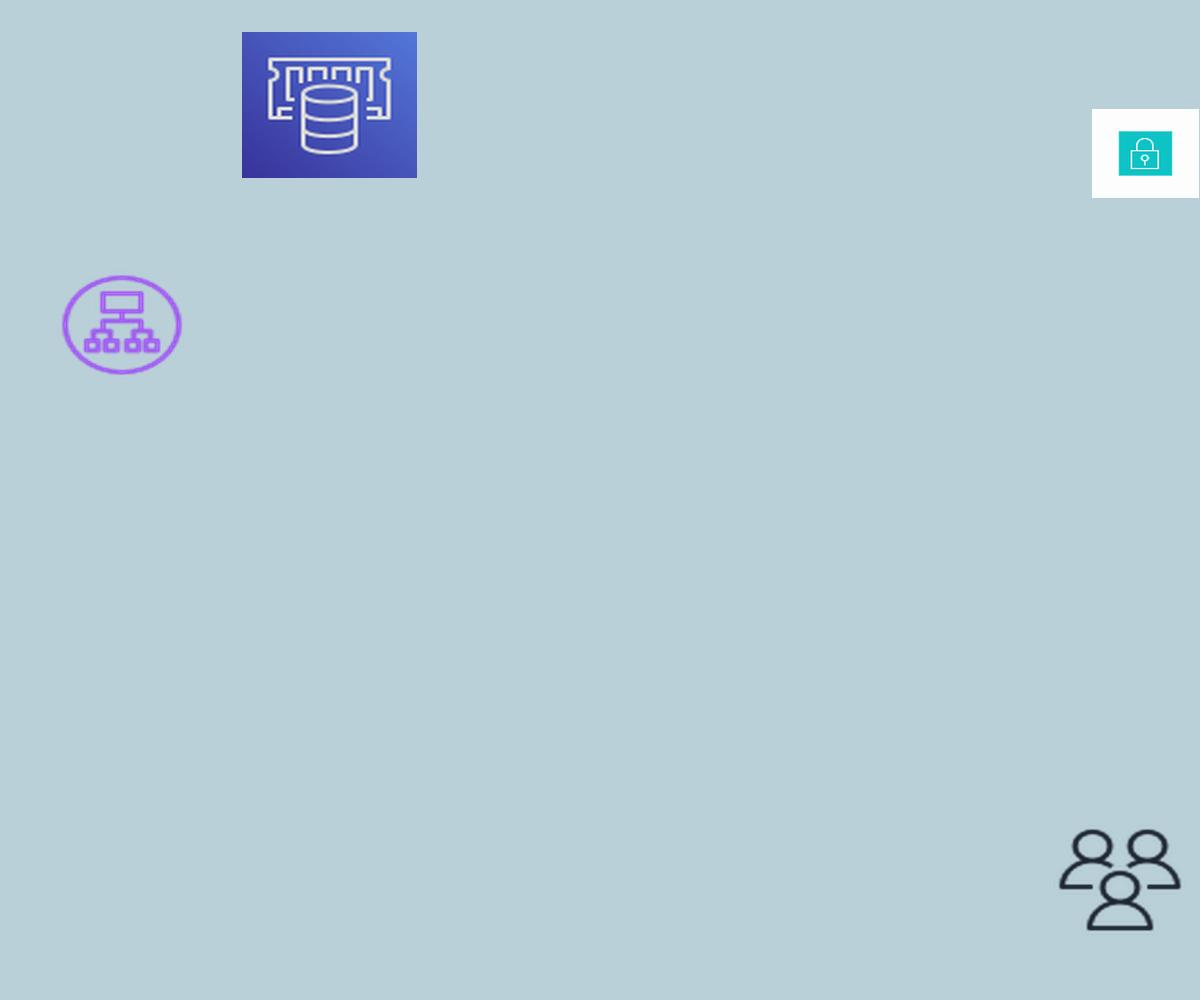AWS-ElastiCache: (242, 32, 417, 178)
AWS-Private-subnet: (1092, 109, 1199, 198)
AWS-Res_Elastic-Load-Balancing_Application-Load-Balancer: (57, 271, 187, 379)
AWS-Res_Users: (1054, 825, 1186, 935)
